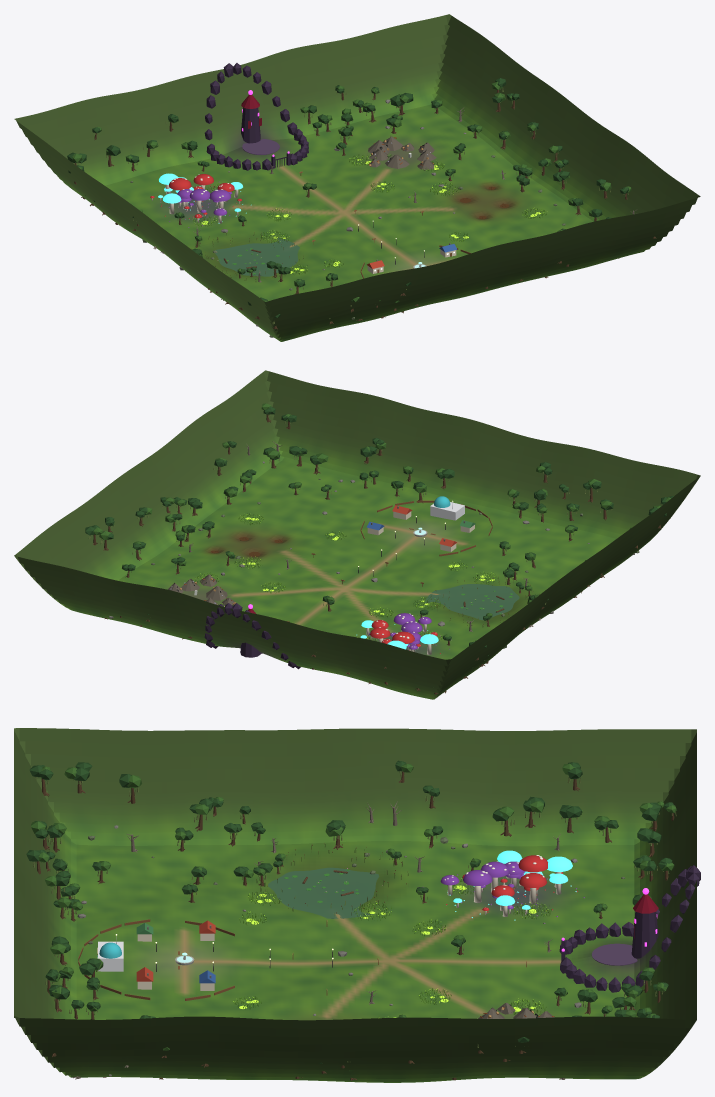
Rendered from world.glb.
The picture shows the model from 3 angles, top to bottom: view 1: azimuth 30°, elevation 25°; view 2: azimuth 150°, elevation 25°; view 3: azimuth 270°, elevation 25°; orthographic projection. The views are drawn at different scales.
Parts seen in each view (by area): view 1: Terrain, Trees, Rocks, MushroomGrove, Water, VillainTower, TrashHeap, Town; view 2: Terrain, Trees, Water, Town, MushroomGrove, Rocks, TrashHeap; view 3: Terrain, Trees, Water, MushroomGrove, Rocks, Town, VillainTower, BogDetails, TrashHeap.
Boxes of the visible parts, left/top/right/bottom form: Terrain: left=14, top=14, right=700, bottom=341; Trees: left=67, top=78, right=656, bottom=329; Rocks: left=130, top=63, right=565, bottom=337; MushroomGrove: left=150, top=173, right=251, bottom=227; Water: left=215, top=186, right=508, bottom=276; VillainTower: left=241, top=90, right=290, bottom=168; TrashHeap: left=368, top=136, right=436, bottom=169; Town: left=358, top=220, right=470, bottom=278; Terrain: left=14, top=370, right=700, bottom=699; Trees: left=85, top=403, right=673, bottom=694; Water: left=211, top=537, right=519, bottom=620; Town: left=358, top=496, right=492, bottom=576; MushroomGrove: left=356, top=613, right=451, bottom=654; Rocks: left=109, top=461, right=639, bottom=669; TrashHeap: left=168, top=574, right=235, bottom=605; Terrain: left=14, top=728, right=696, bottom=1082; Trees: left=26, top=760, right=676, bottom=1081; Water: left=268, top=867, right=379, bottom=918; MushroomGrove: left=440, top=850, right=584, bottom=920; Rocks: left=77, top=825, right=700, bottom=1076; Town: left=78, top=919, right=333, bottom=1000; VillainTower: left=561, top=888, right=658, bottom=965; BogDetails: left=256, top=843, right=408, bottom=915; TrashHeap: left=478, top=1003, right=554, bottom=1018.
Size of the model in its own units: 240 by 39.59 by 241.
